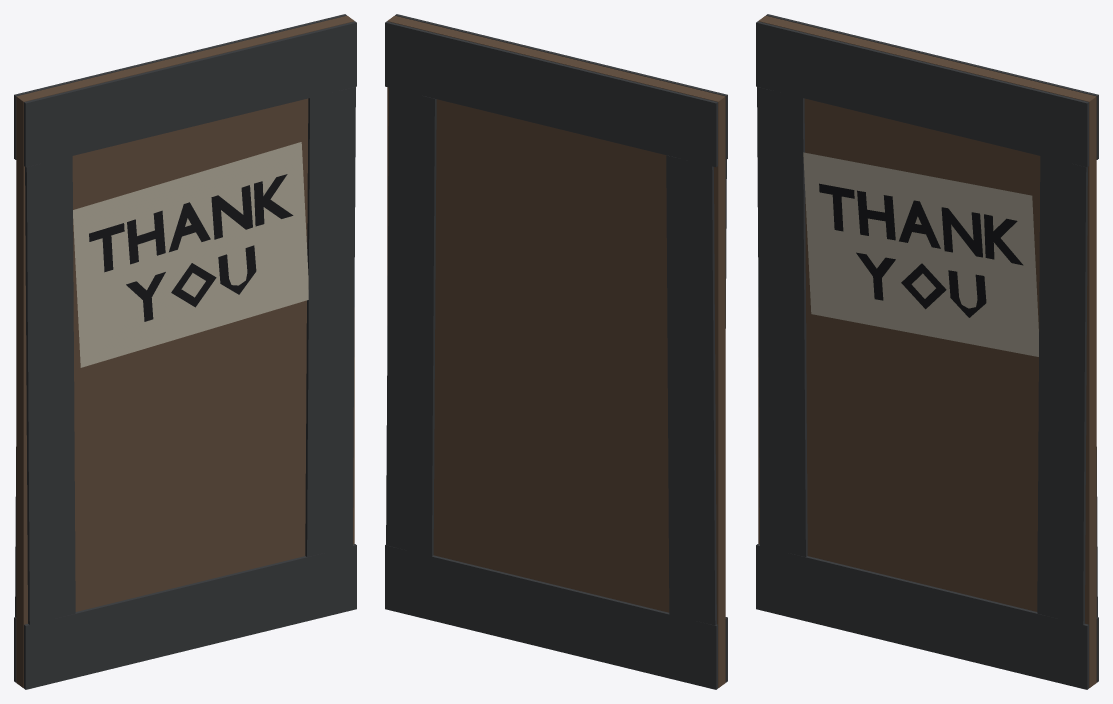
Rendered from rear_door_panel.glb.
The picture shows the model from 3 angles, left to right: view 1: azimuth 30°, elevation 25°; view 2: azimuth 150°, elevation 25°; view 3: azimuth 330°, elevation 25°; orthographic projection.
Parts seen in each view (by area): view 1: Panel; view 2: Panel; view 3: Panel.
Part boxes in pixels (box(x1,y1,x2,y2)): Panel: box(14, 14, 356, 689); Panel: box(385, 14, 727, 689); Panel: box(756, 14, 1098, 689).
Size of the model in its own units: 1.3 by 2.2 by 0.0805.
